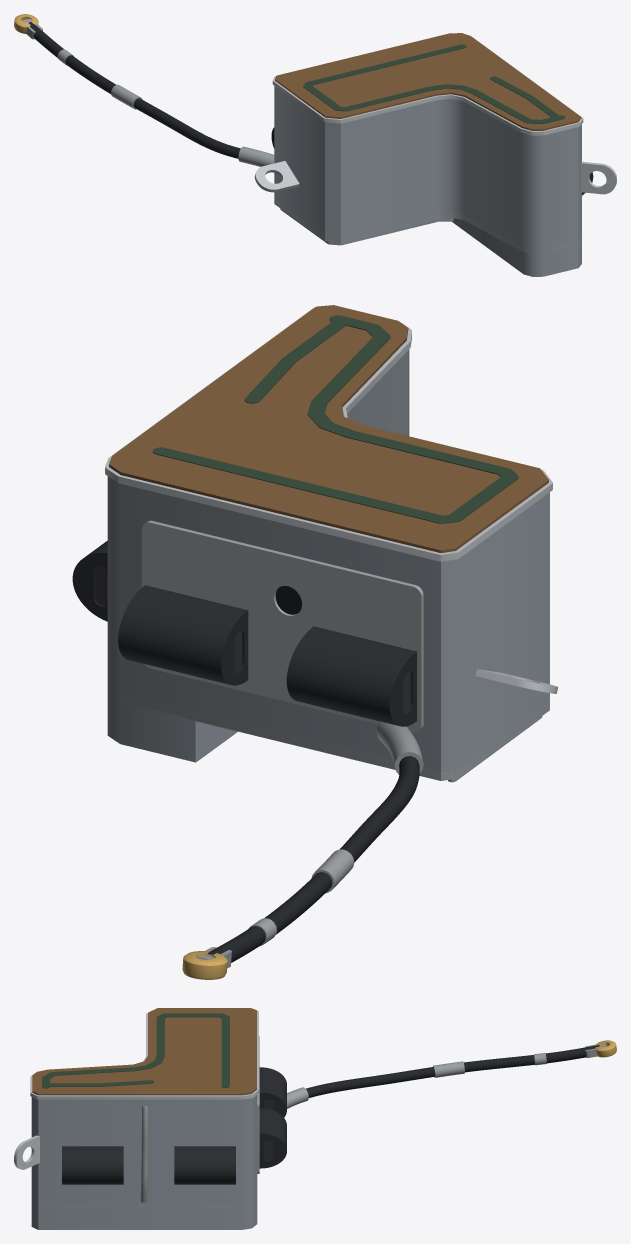
Rendered from compact.glb.
3 views of the same model, one above another, from view 1: azimuth 30°, elevation 25°; view 2: azimuth 150°, elevation 25°; view 3: azimuth 270°, elevation 25° (orthographic). The views are drawn at different scales.
Visible parts, largest first — view 1: compact__body__folded_stepped_tin_walls, compact__body__tan_L_face, compact__body__green_L_and_return_visible_on_laminate, compact__body__deep_formed_back_bay_next_to_recessed_broad_f, compact__cable__black_coax_visible_run, compact__body__stepped_face_with_rolled_edge, compact__body__silver_back_enclosure, compact__body__oblique_left_metal_eye, compact__body__opposite_metal_eye, compact__body__folded_rear_lips_around_recess, compact__cable__sleeve_1, compact__cable__sleeve_2; view 2: compact__body__folded_stepped_tin_walls, compact__body__tan_L_face, compact__body__upper_tin_face_with_small_dark_opening, compact__body__upper_pad_2_wrap, compact__body__upper_pad_1_wrap, compact__body__green_L_and_return_visible_on_laminate, compact__body__stepped_face_with_rolled_edge, compact__cable__black_coax_visible_run, compact__body__deep_formed_back_bay_next_to_recessed_broad_f, compact__body__silver_back_enclosure, compact__body__side_pad_1_wrap, compact__cable__sleeve_1 (+1 smaller); view 3: compact__body__folded_stepped_tin_walls, compact__body__tan_L_face, compact__body__deep_formed_back_bay_next_to_recessed_broad_f, compact__cable__black_coax_visible_run, compact__body__green_L_and_return_visible_on_laminate, compact__body__side_pad_1_wrap, compact__body__side_pad_2_wrap, compact__body__stepped_face_with_rolled_edge, compact__body__upper_pad_2_wrap, compact__body__upper_pad_1_wrap, compact__body__exposed_braid_at_fold, compact__body__opposite_metal_eye (+3 smaller).
Boxes of the visible parts, x1,y1,x2,y2 form: compact__body__folded_stepped_tin_walls: (274,86,581,253); compact__body__tan_L_face: (275,33,581,130); compact__body__green_L_and_return_visible_on_laminate: (303,44,565,124); compact__body__deep_formed_back_bay_next_to_recessed_broad_f: (452,218,581,276); compact__cable__black_coax_visible_run: (29,22,240,158); compact__body__stepped_face_with_rolled_edge: (272,37,583,135); compact__body__silver_back_enclosure: (274,199,581,254); compact__body__oblique_left_metal_eye: (254,161,299,192); compact__body__opposite_metal_eye: (581,161,616,194); compact__body__folded_rear_lips_around_recess: (280,208,453,245); compact__cable__sleeve_1: (238,146,274,166); compact__cable__sleeve_2: (111,84,142,109); compact__body__folded_stepped_tin_walls: (107,349,549,779); compact__body__tan_L_face: (109,305,548,553); compact__body__upper_tin_face_with_small_dark_opening: (142,520,423,732); compact__body__upper_pad_2_wrap: (118,585,248,685); compact__body__upper_pad_1_wrap: (286,626,416,726); compact__body__green_L_and_return_visible_on_laminate: (152,315,518,523); compact__body__stepped_face_with_rolled_edge: (105,308,552,561); compact__cable__black_coax_visible_run: (207,756,419,962); compact__body__deep_formed_back_bay_next_to_recessed_broad_f: (107,693,237,762); compact__body__silver_back_enclosure: (107,688,549,780); compact__body__side_pad_1_wrap: (72,541,107,621); compact__cable__sleeve_1: (376,721,423,774); compact__body__folded_stepped_tin_walls: (31,1095,257,1208); compact__body__tan_L_face: (32,1008,256,1095); compact__body__deep_formed_back_bay_next_to_recessed_broad_f: (31,1203,257,1229); compact__cable__black_coax_visible_run: (306,1045,599,1097); compact__body__green_L_and_return_visible_on_laminate: (42,1013,229,1088); compact__body__side_pad_1_wrap: (174,1146,235,1184); compact__body__side_pad_2_wrap: (62,1146,123,1184); compact__body__stepped_face_with_rolled_edge: (30,1010,258,1099); compact__body__upper_pad_2_wrap: (259,1108,286,1168); compact__body__upper_pad_1_wrap: (259,1067,286,1117); compact__body__exposed_braid_at_fold: (140,1106,148,1202); compact__body__opposite_metal_eye: (14,1135,39,1169).
Bounding box in the file's own units: 0.0289 × 0.0146 × 0.058.
